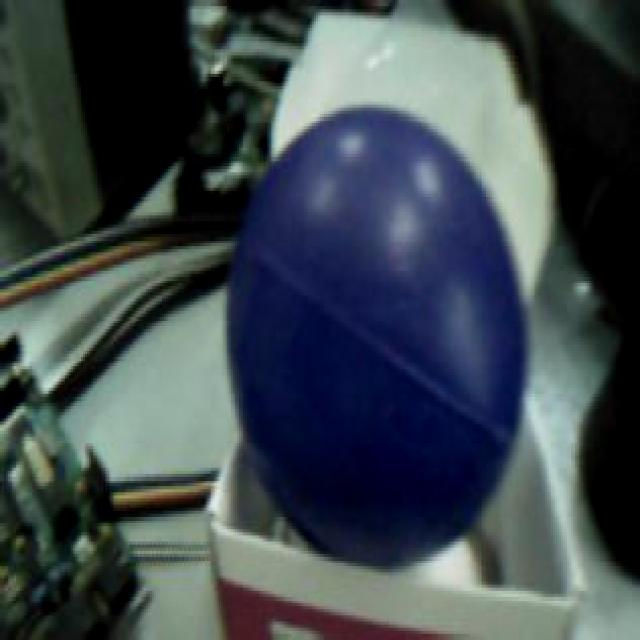BallPurple: (223, 103, 526, 569)
